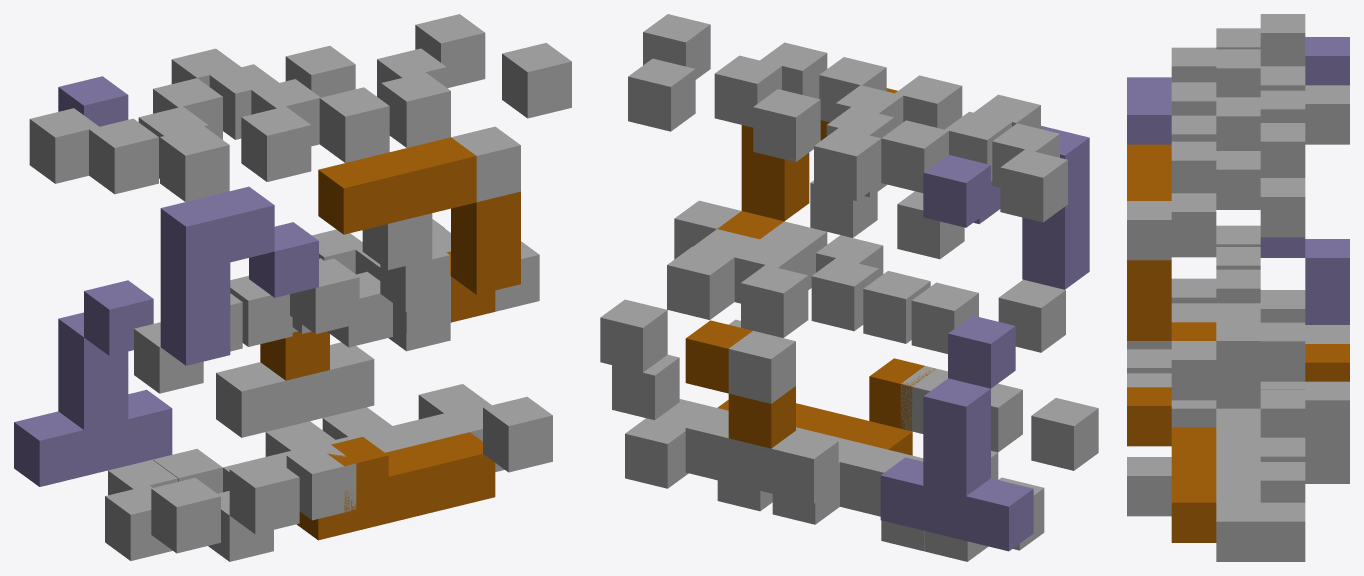
The model's file is game1.fbx.
3 views of the same model, side by side, from view 1: azimuth 30°, elevation 25°; view 2: azimuth 150°, elevation 25°; view 3: azimuth 270°, elevation 25° (orthographic). The views are drawn at different scales.
Parts seen in each view (by area): view 1: polySurface1997; view 2: polySurface1997; view 3: polySurface1997.
Boxes of the visible parts, <box> form: polySurface1997: <box>14,14,571,561</box>; polySurface1997: <box>600,14,1098,561</box>; polySurface1997: <box>1127,14,1349,561</box>.
Bounding box in the file's own units: 10.51 × 9 × 5.
